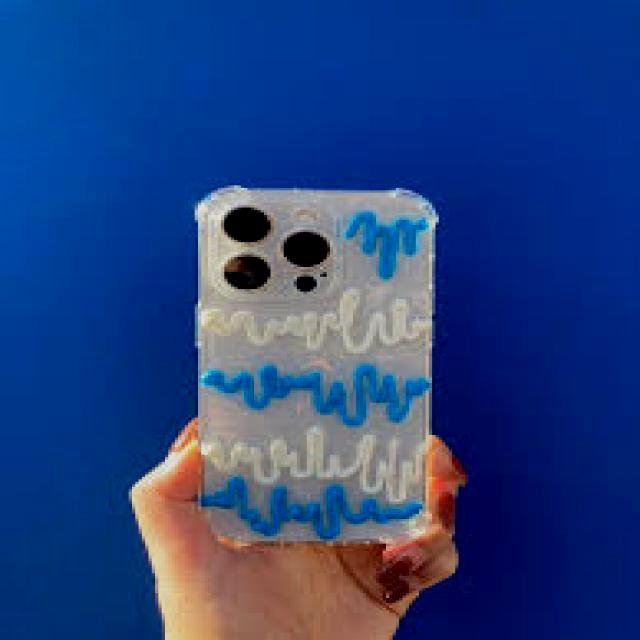lens: (212, 201, 344, 303)
phone: (192, 186, 446, 553)
